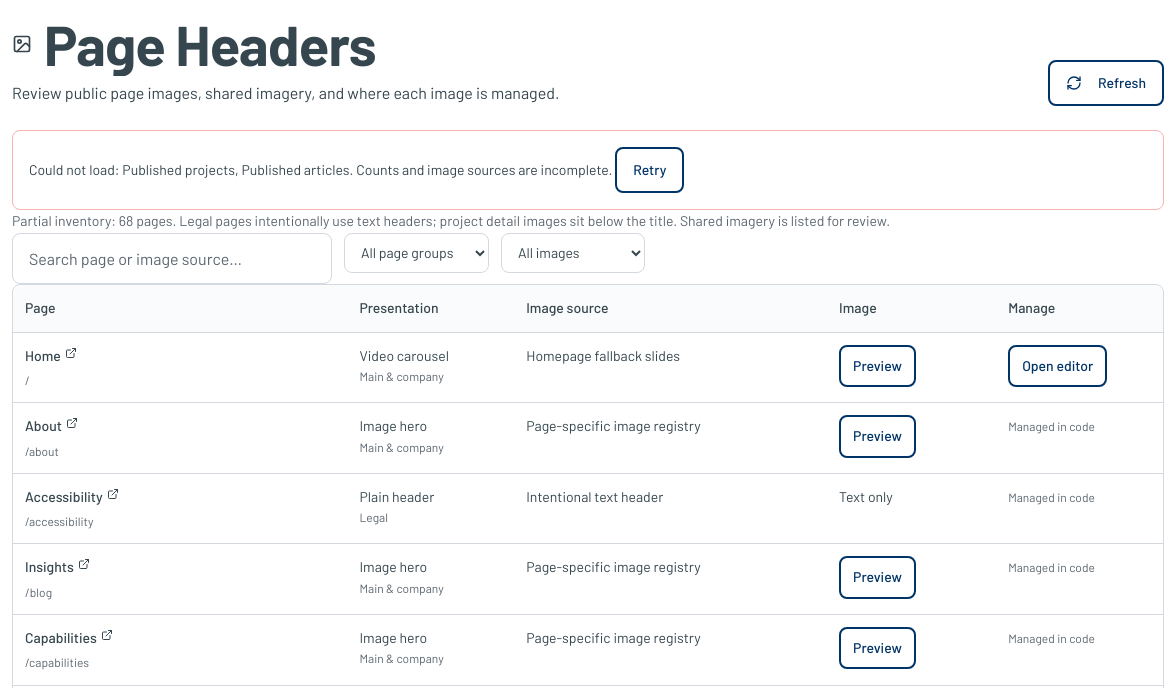
Test case: page-header administration › shows partial-source failures and retries without hiding healthy service editor links
Expected: the message shows "Published projects, Published articles", [29,161,354,178]
Expected: the message shows "Counts and image sources are incomplete.", [356,161,612,178]
Click the button "Retry": (650, 170) [615,147,684,193]
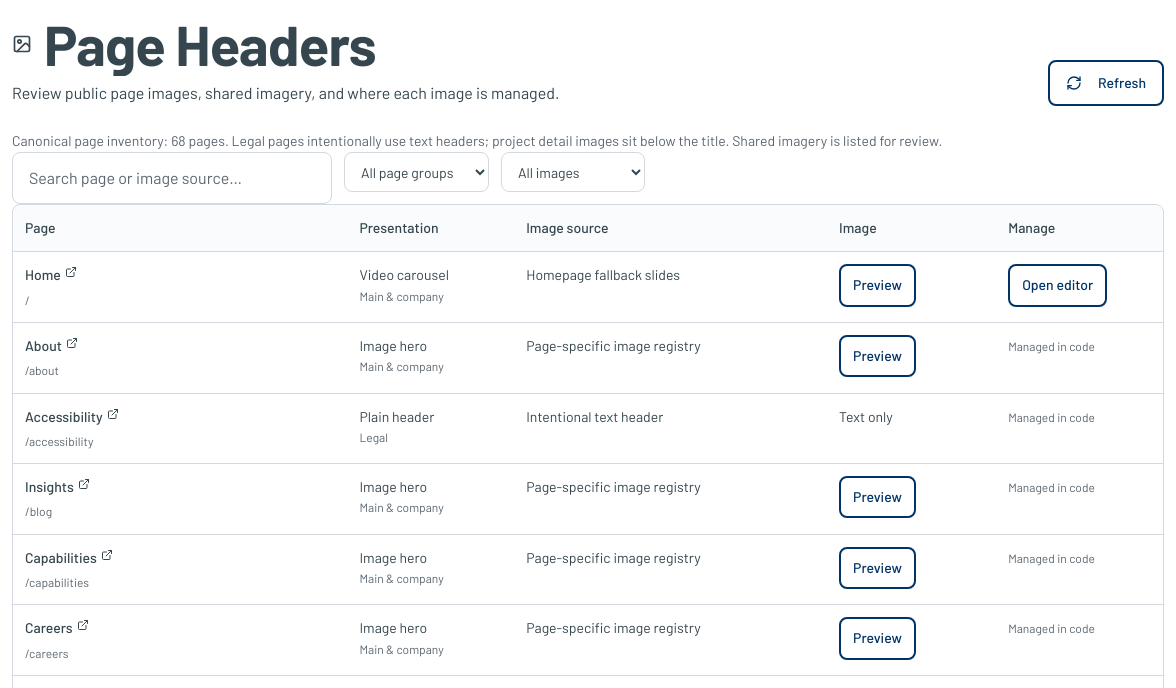
Expected: the text "Canonical page inventory:" shows "68 pages", [12,132,942,149]
Result: the message is gone
